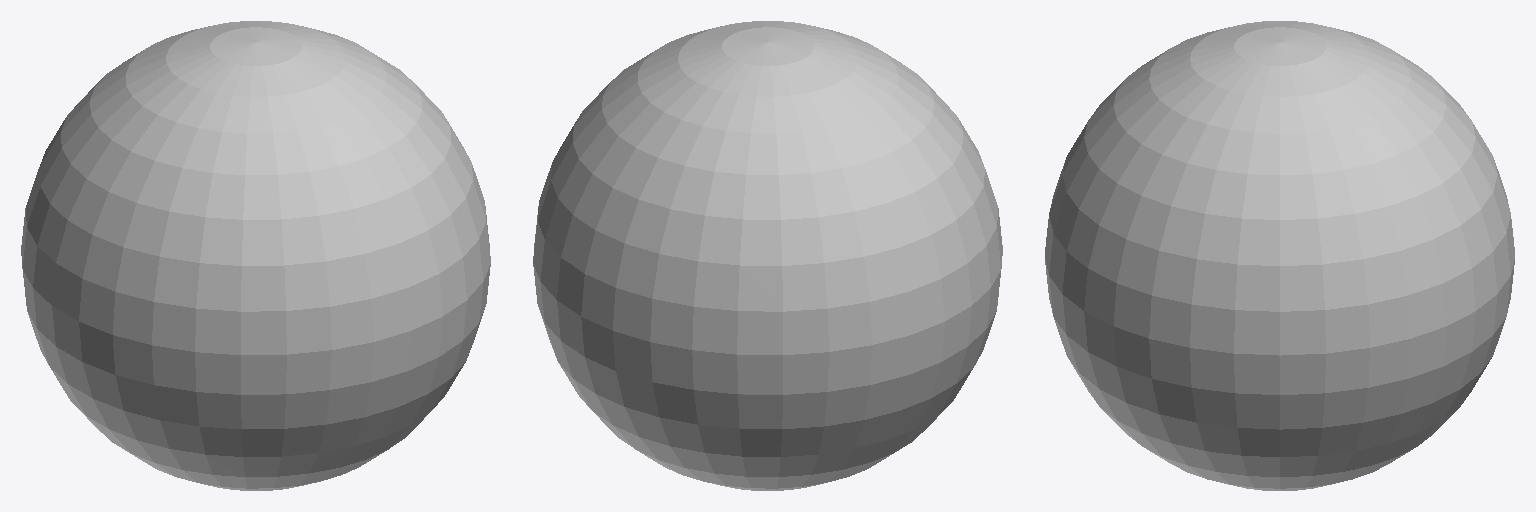
File: Liv Earth.obj
The picture shows the model from 3 angles: view 1: azimuth 30°, elevation 25°; view 2: azimuth 150°, elevation 25°; view 3: azimuth 270°, elevation 25°; orthographic projection.
Parts seen in each view (by area): view 1: 000_Earth; view 2: 000_Earth; view 3: 000_Earth.
Boxes of the visible parts, x1=… form: 000_Earth: x1=21, y1=21, x2=490, y2=490; 000_Earth: x1=533, y1=21, x2=1002, y2=490; 000_Earth: x1=1045, y1=21, x2=1514, y2=490.
Bounding box in the file's own units: 68.17 × 68.17 × 68.17.